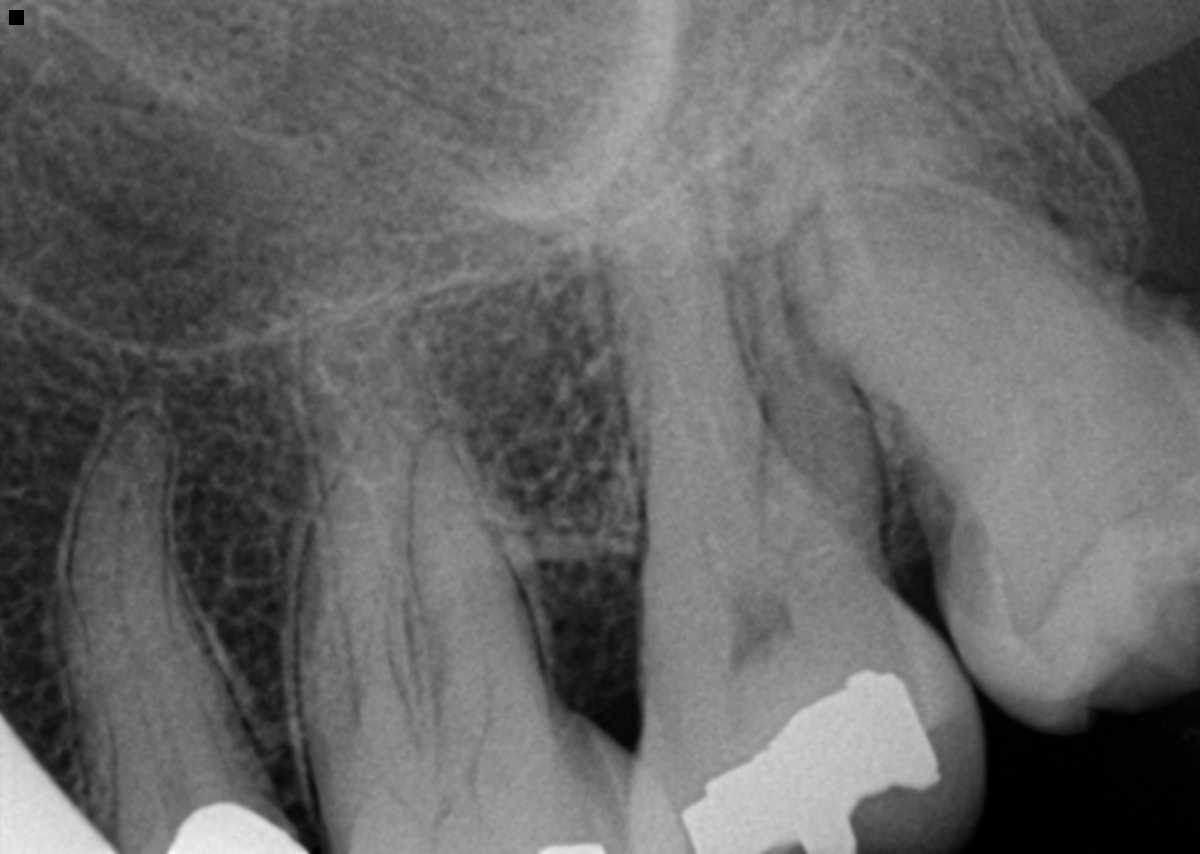Distal Canal: (779, 333, 827, 585)
Distal Root: (409, 423, 558, 762), (742, 233, 886, 581)
Main Canal: (109, 490, 189, 802)
Main Root: (776, 177, 1187, 605), (60, 400, 275, 823)
Mesial Canal: (444, 507, 490, 778)
Mesial Root: (289, 422, 439, 828), (646, 258, 769, 551)
Palatal Canal: (699, 504, 737, 600)
Palatal Root: (303, 252, 559, 823), (607, 140, 849, 656)
